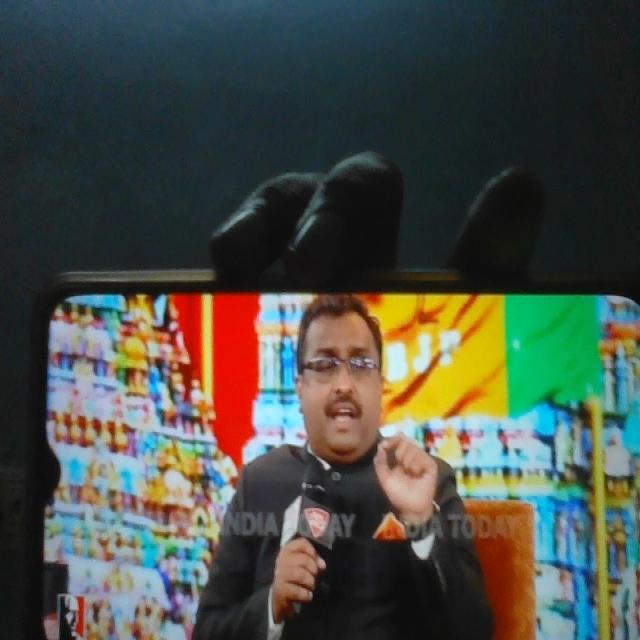fake: (289, 262, 393, 458)
